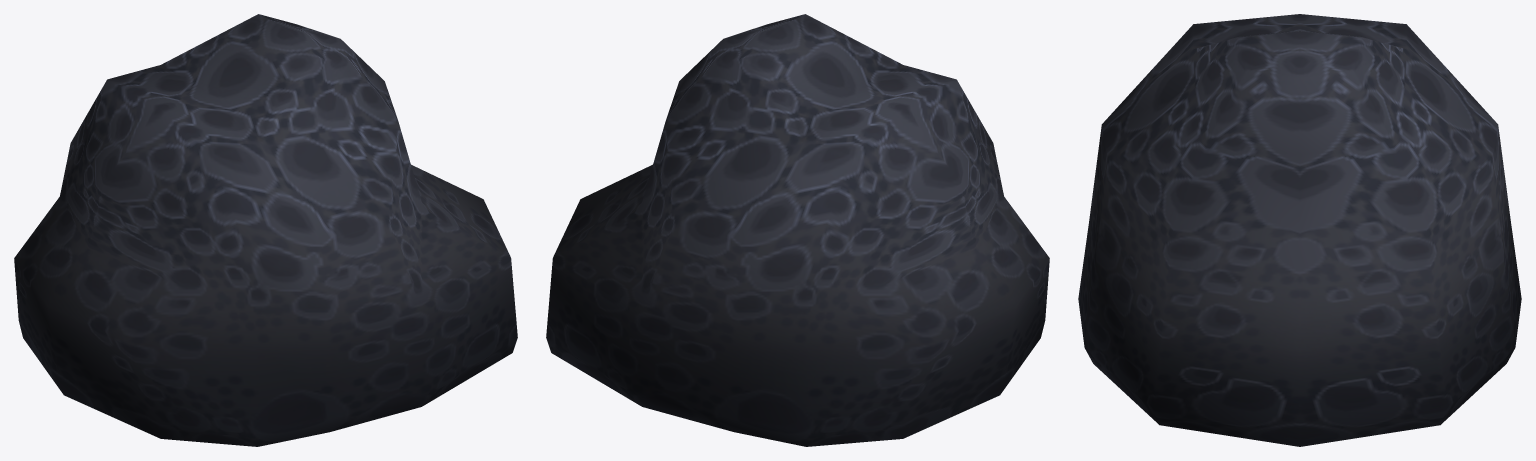
Rendered from Rock_02d.FBX.
The picture shows the model from 3 angles, left to right: view 1: azimuth 30°, elevation 25°; view 2: azimuth 150°, elevation 25°; view 3: azimuth 270°, elevation 25°; orthographic projection. The views are drawn at different scales.
Visible parts, largest first — view 1: Rock_02d; view 2: Rock_02d; view 3: Rock_02d.
Boxes of the visible parts, box(x1,y1,x2,y2) form: Rock_02d: box(14, 14, 517, 446); Rock_02d: box(546, 14, 1049, 446); Rock_02d: box(1078, 14, 1521, 446).
Size of the model in its own units: 78.38 by 52.34 by 66.5.
